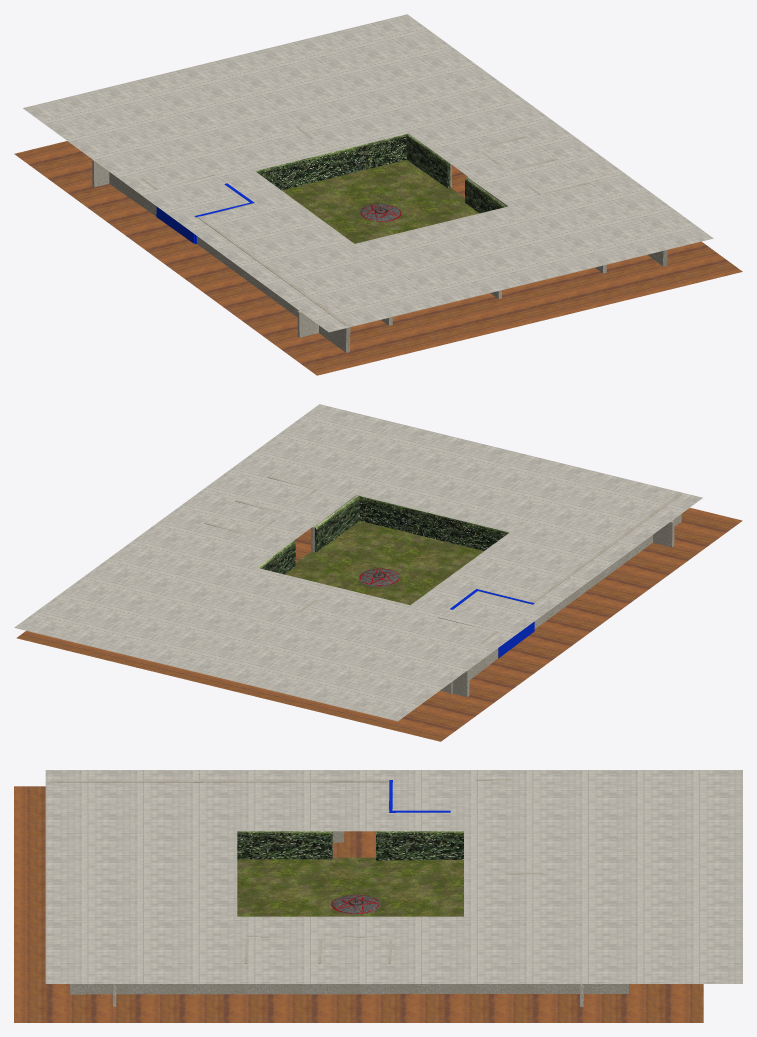
The model's file is finalmap.glb.
3 renders of one model, top to bottom at view 1: azimuth 30°, elevation 25°; view 2: azimuth 150°, elevation 25°; view 3: azimuth 270°, elevation 25°, orthographic. The views are drawn at different scales.
Visible parts, largest first — view 1: roof, floor, grass, HEDGE.005, Cube.003, HEDGE.004, HEDGE.003, SM_Pentagram, Cube.025; view 2: roof, floor, grass, HEDGE.002, Cube.003, HEDGE.003, HEDGE.004, SM_Pentagram; view 3: roof, floor, grass, Cube.032, HEDGE.007, HEDGE.001, Cube.003, SM_Pentagram.
Part boxes in pixels (left/top/right/bottom): roof: left=23, top=14, right=713, bottom=332; floor: left=14, top=141, right=742, bottom=375; grass: left=282, top=160, right=478, bottom=243; HEDGE.005: left=255, top=134, right=406, bottom=190; Cube.003: left=197, top=216, right=350, bottom=352; HEDGE.004: left=406, top=133, right=450, bottom=188; HEDGE.003: left=465, top=177, right=506, bottom=213; SM_Pentagram: left=360, top=203, right=401, bottom=221; Cube.025: left=109, top=172, right=158, bottom=215; roof: left=14, top=404, right=702, bottom=721; floor: left=16, top=508, right=742, bottom=741; grass: left=285, top=521, right=483, bottom=604; HEDGE.002: left=359, top=496, right=509, bottom=550; Cube.003: left=531, top=493, right=681, bottom=628; HEDGE.003: left=314, top=495, right=359, bottom=552; HEDGE.004: left=258, top=540, right=295, bottom=574; SM_Pentagram: left=358, top=568, right=400, bottom=586; roof: left=45, top=770, right=742, bottom=983; floor: left=14, top=786, right=703, bottom=1022; grass: left=237, top=857, right=463, bottom=916; Cube.032: left=69, top=984, right=628, bottom=994; HEDGE.007: left=237, top=831, right=333, bottom=859; HEDGE.001: left=376, top=831, right=463, bottom=860; Cube.003: left=49, top=780, right=388, bottom=782; SM_Pentagram: left=331, top=894, right=381, bottom=914.
Bounding box in the file's own units: 97.19 × 7.96 × 127.
Materials: 158 (151 with a texture image).
